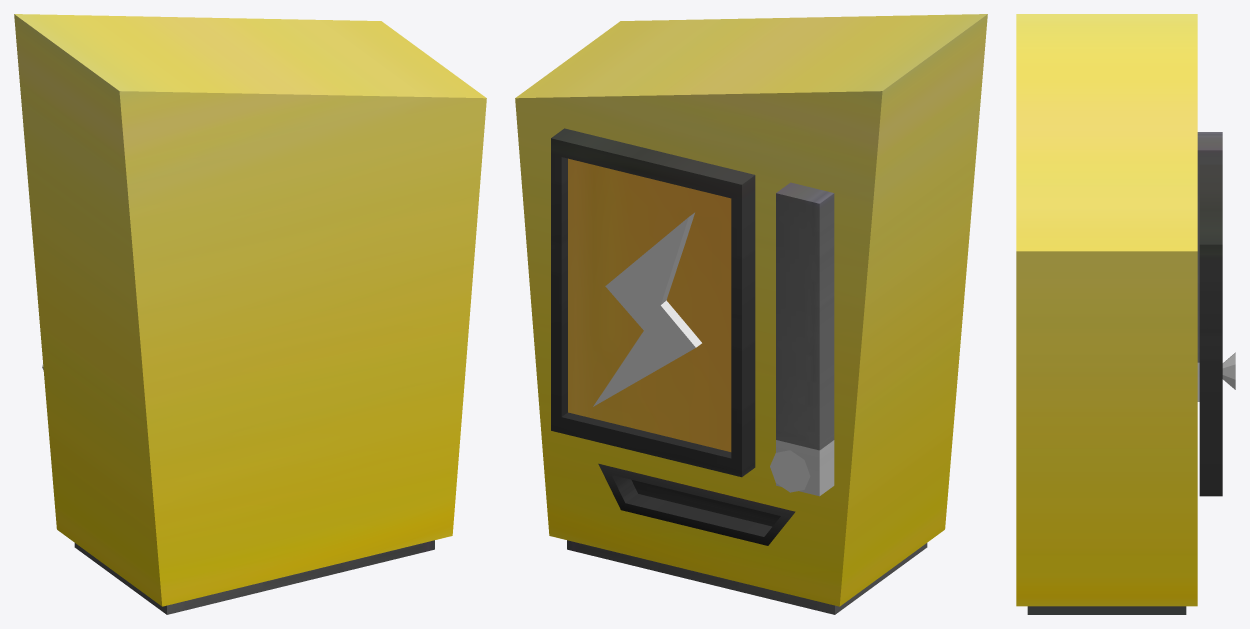
Rendered from caylaynuoc.fbx.
3 renders of one model, left to right at view 1: azimuth 30°, elevation 25°; view 2: azimuth 150°, elevation 25°; view 3: azimuth 270°, elevation 25°, orthographic. The views are drawn at different scales.
Parts seen in each view (by area): view 1: Cube.189; view 2: Cube.189; view 3: Cube.189.
Part boxes in pixels (x1,y1,x2,y2): Cube.189: (14, 14, 486, 614); Cube.189: (515, 14, 987, 614); Cube.189: (1016, 14, 1235, 614).
Bounding box in the file's own units: 403 × 567 × 242.
